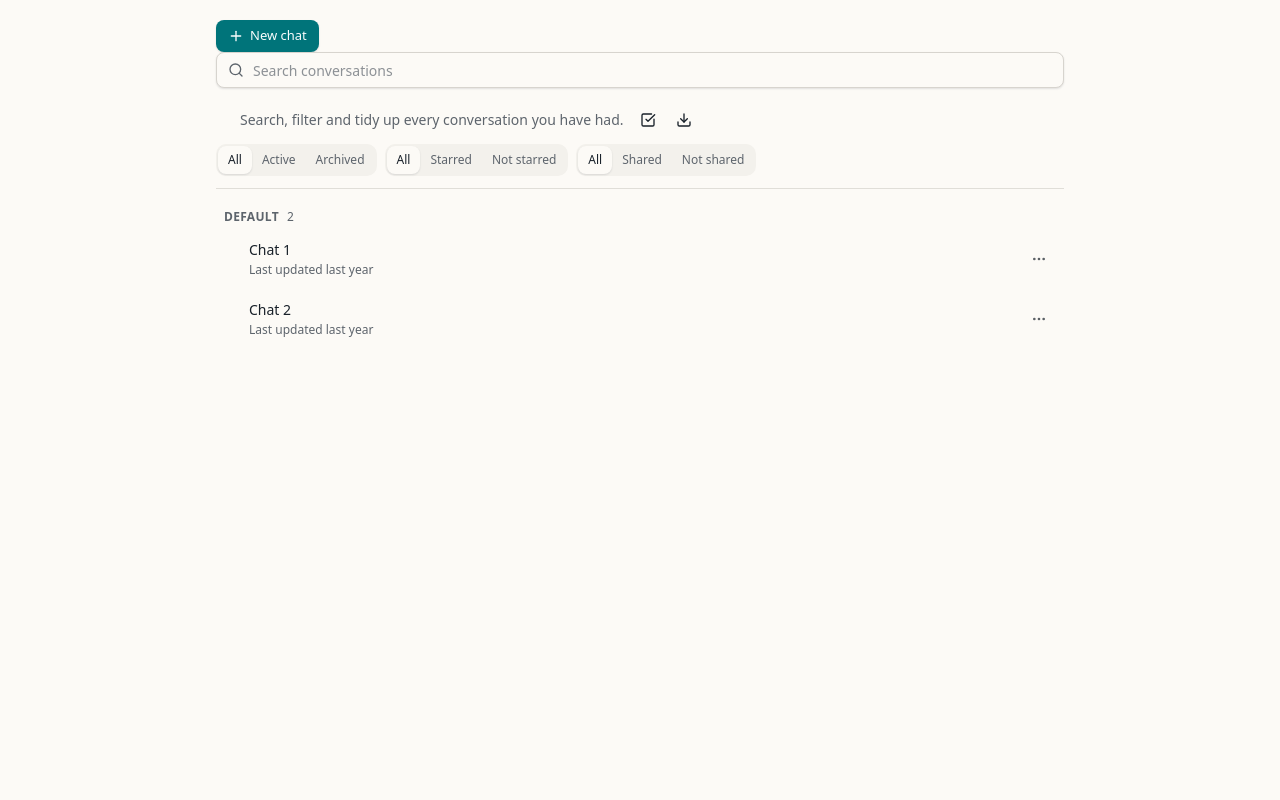
Test: RecentPage row actions › deletes with the user's default for removing files
Expected: the text "Chat 1" is shown, left=249, top=240, right=291, bottom=260
Click the button named "Conversation actions" in the row of "Chat 1".
click(1039, 259)  # box left=1023, top=243, right=1055, bottom=275
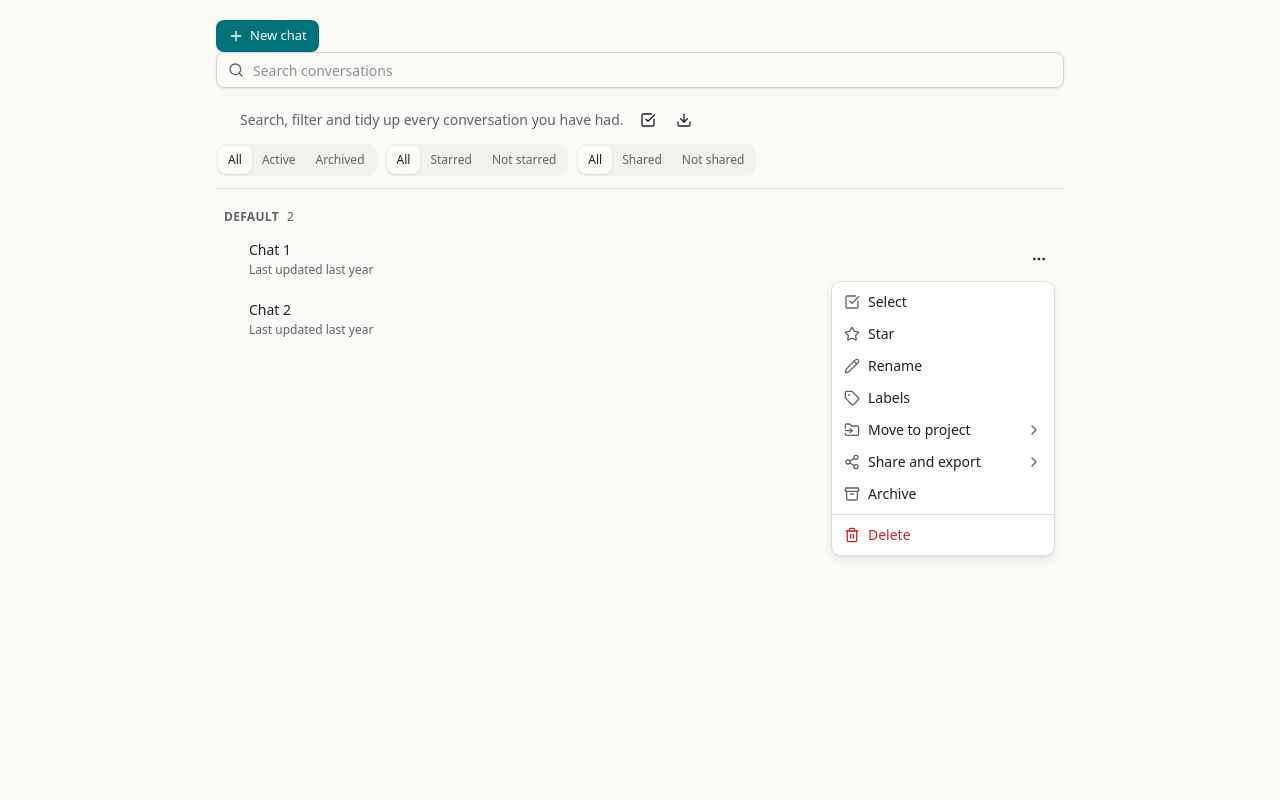
Click the menu item "Delete".
click(877, 534)  # box left=844, top=525, right=911, bottom=544
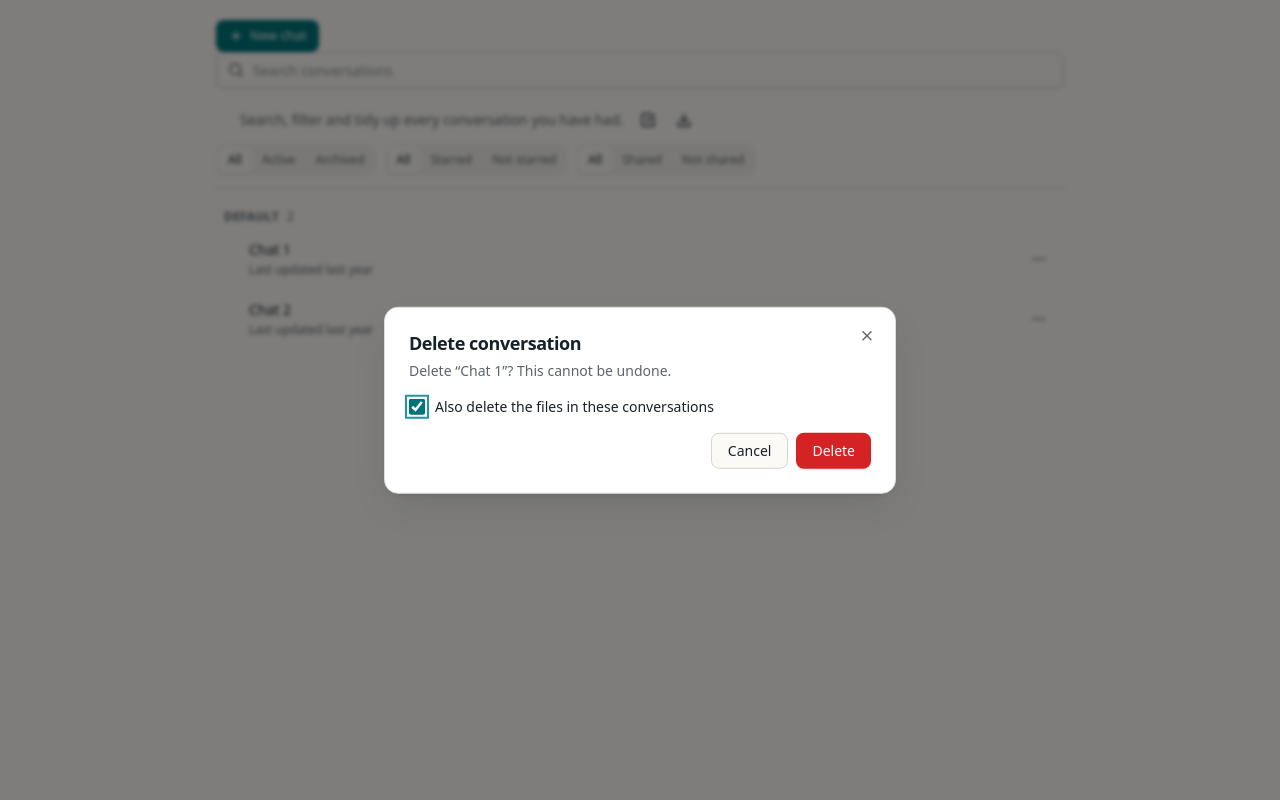
Expected: the checkbox is checked, left=409, top=398, right=425, bottom=414
Expected: the text "Delete “Chat 1”? This cannot be undone." is shown, left=409, top=360, right=671, bottom=379
Click the button "Delete".
click(834, 450)  # box left=796, top=432, right=871, bottom=468
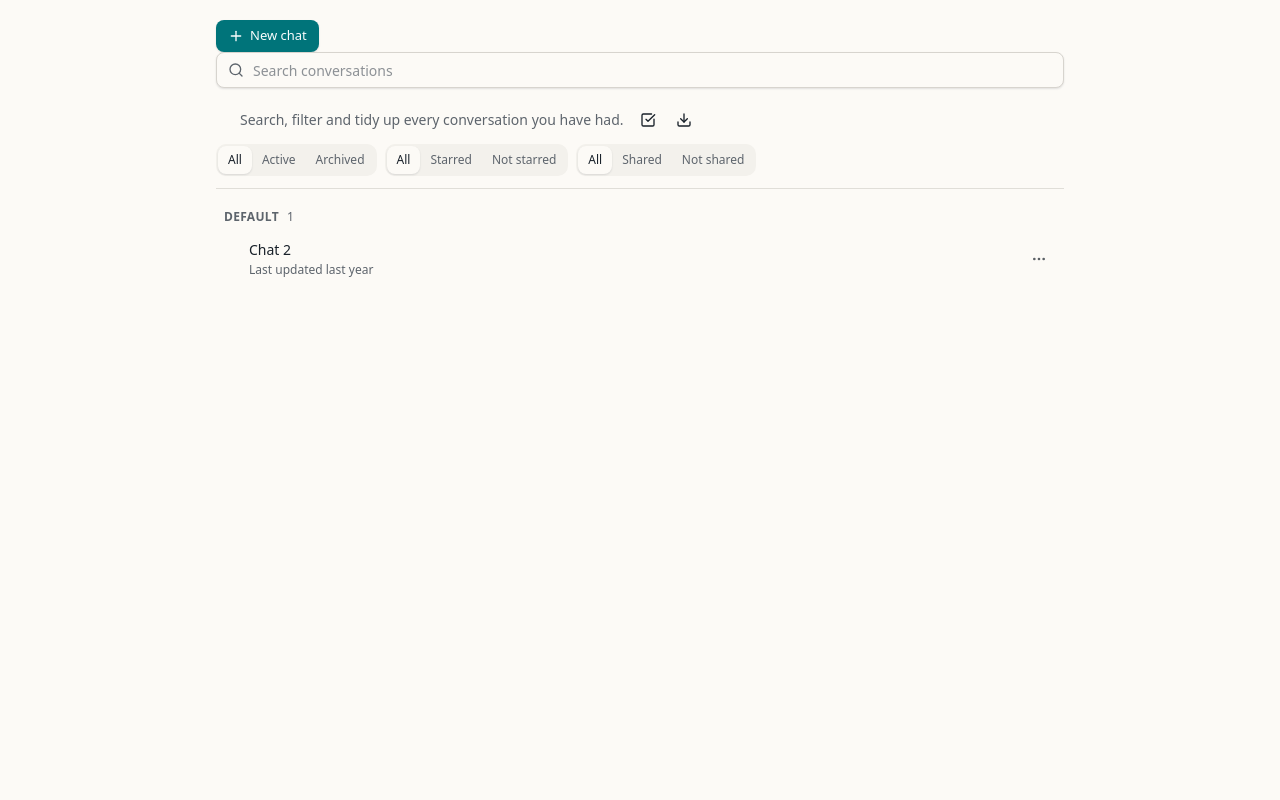
Expected: the link "Chat 1" is gone
